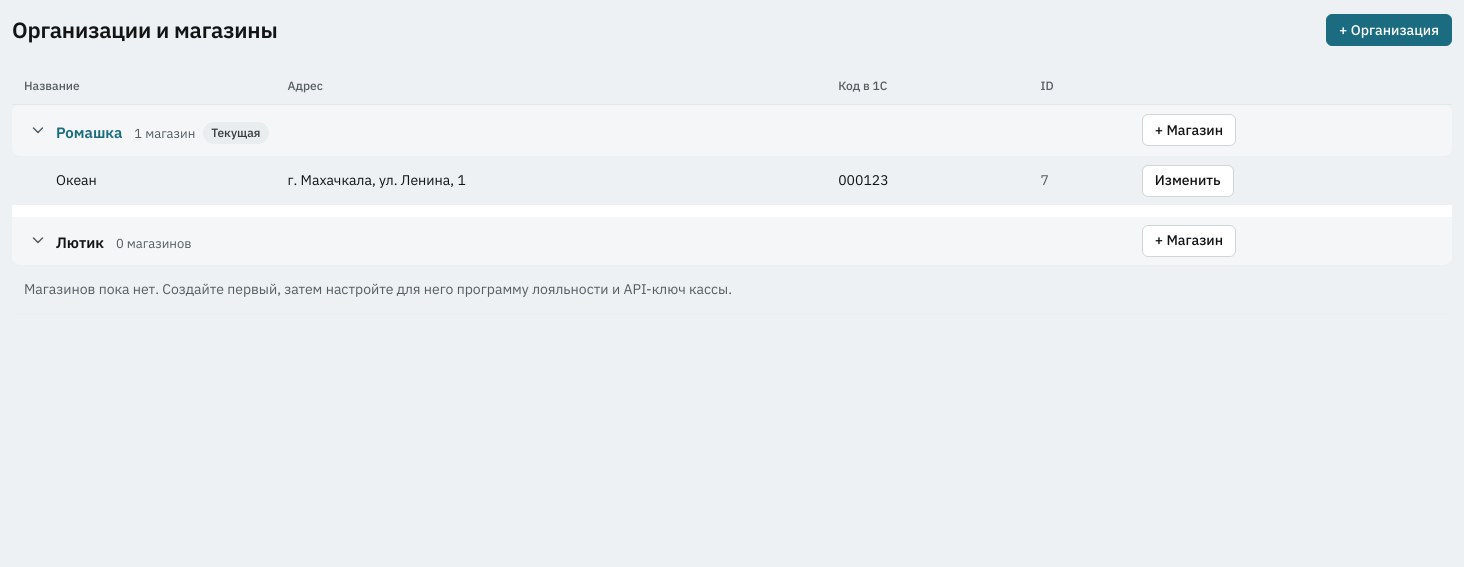
Test: OrganizationsPage › after creating an organization, selects it and opens its first-store form
The width and height of the screenshot is (1464, 567).
Step 1. Click the button "+ Организация" → point(1389, 30), box x1=1326 y1=14 x2=1452 y2=46
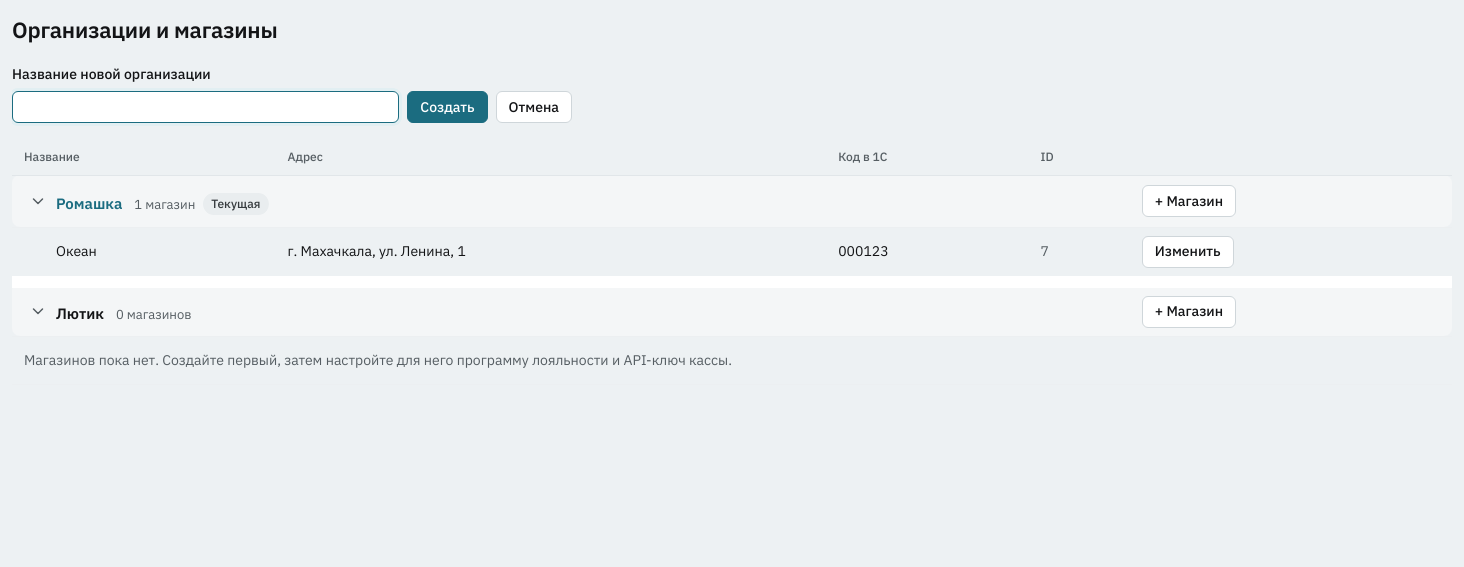
Step 2. Type "Лютик" into the field labelled "Название новой организации" → point(206, 107), box x1=12 y1=91 x2=399 y2=123
Then press Enter
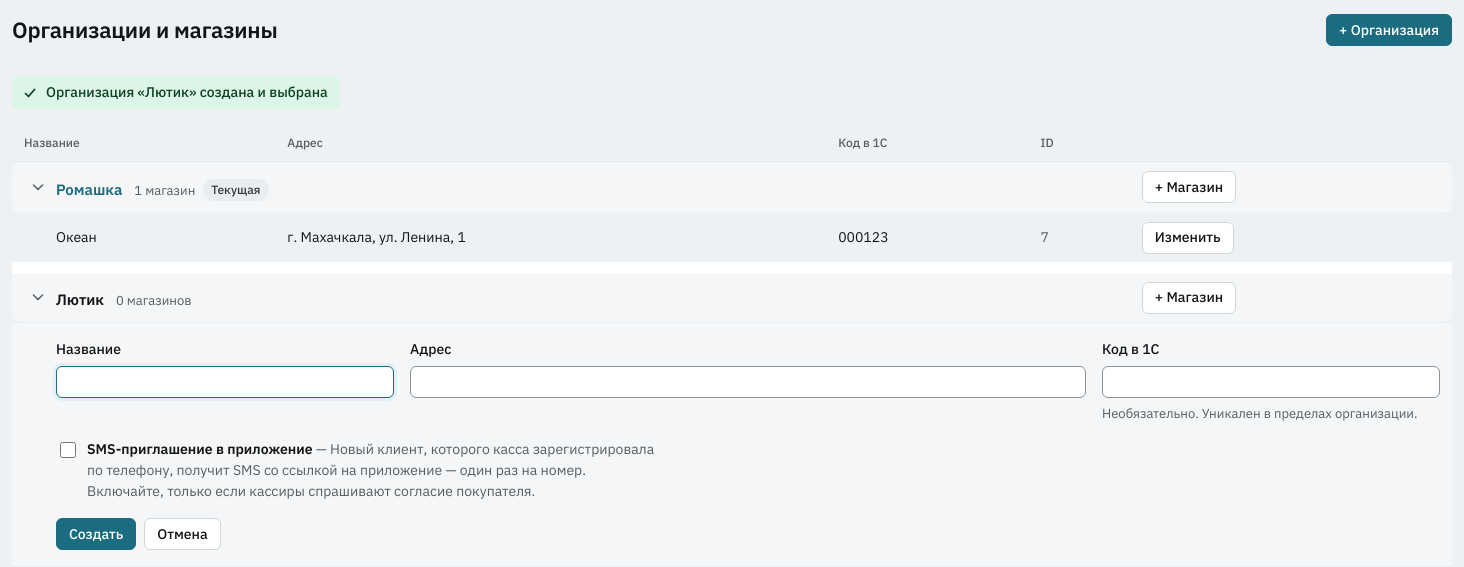
Check: the form named "Новый магазин в «Лютик»" is shown, box x1=56 y1=338 x2=1440 y2=550
